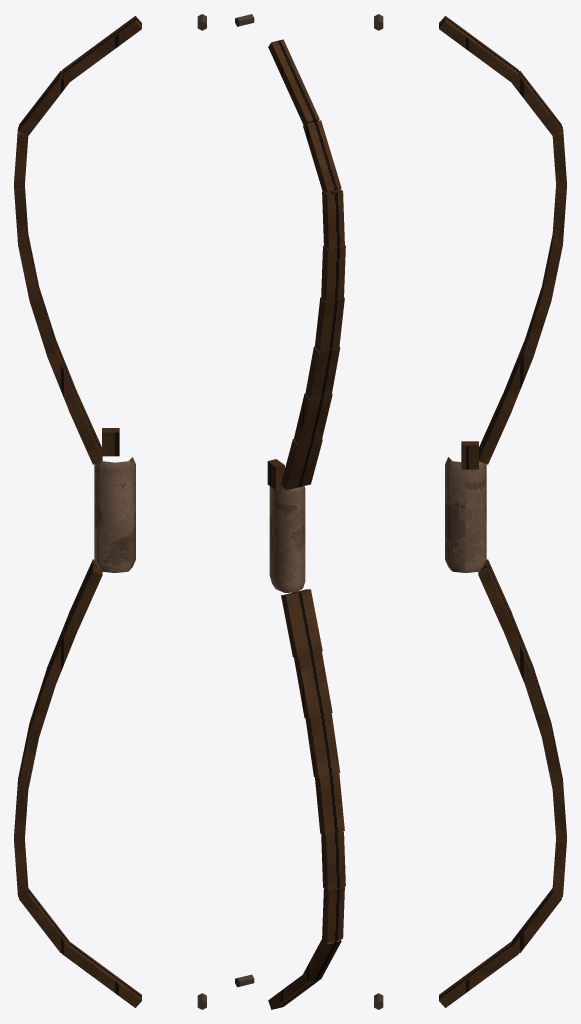
Rendered from item_bow.glb.
3 renders of one model, left to right at view 1: azimuth 90°, elevation 25°; view 2: azimuth 210°, elevation 25°; view 3: azimuth 270°, elevation 25°, orthographic.
Visible parts, largest first — view 1: bow; view 2: bow; view 3: bow.
Boxes of the visible parts, x1,y1,x2,y2 form: bow: (14, 14, 206, 1009); bow: (235, 14, 345, 1009); bow: (374, 14, 566, 1009).
Bounding box in the file's own units: 0.042 × 1.25 × 0.2212.
Materials: 3 (3 with a texture image).
